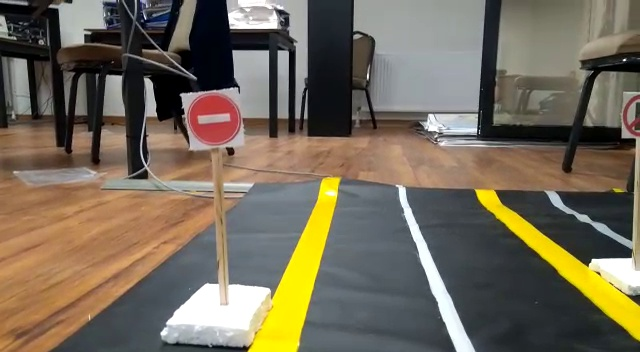girisi_olmayan_yol: (184, 94, 243, 149)
